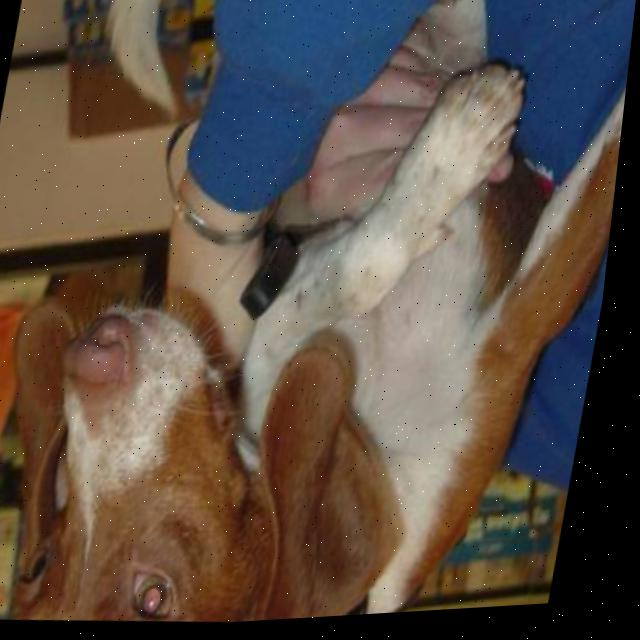dogs: (0, 0, 640, 638)
